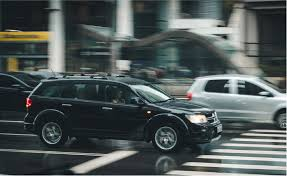car: (23, 76, 223, 154), (186, 75, 287, 135), (1, 73, 40, 108)
